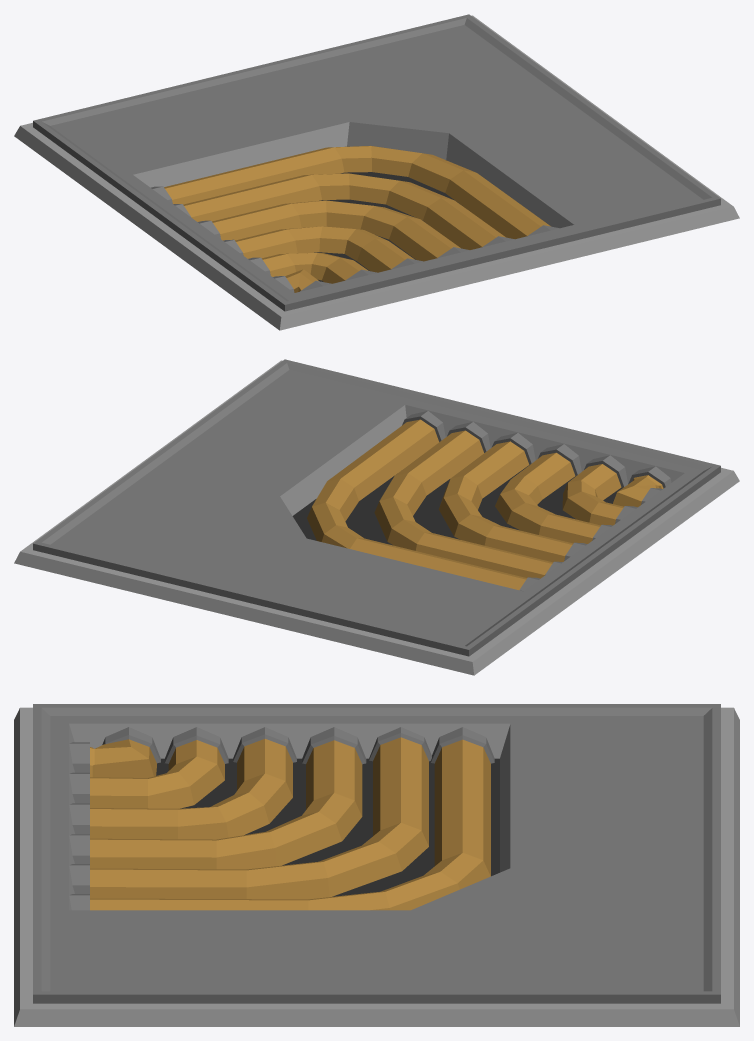
Rendered from RoofTile_Corner_Pipes.glb.
3 renders of one model, top to bottom at view 1: azimuth 30°, elevation 25°; view 2: azimuth 150°, elevation 25°; view 3: azimuth 270°, elevation 25°, orthographic. The views are drawn at different scales.
Visible parts, largest first — view 1: RoofTile_Corner_Pipes; view 2: RoofTile_Corner_Pipes; view 3: RoofTile_Corner_Pipes.
Boxes of the visible parts, x1,y1,x2,y2 form: RoofTile_Corner_Pipes: [14, 14, 739, 330]; RoofTile_Corner_Pipes: [14, 359, 739, 675]; RoofTile_Corner_Pipes: [14, 704, 739, 1026].
Bounding box in the file's own units: 0.68 × 0.039 × 0.68.
